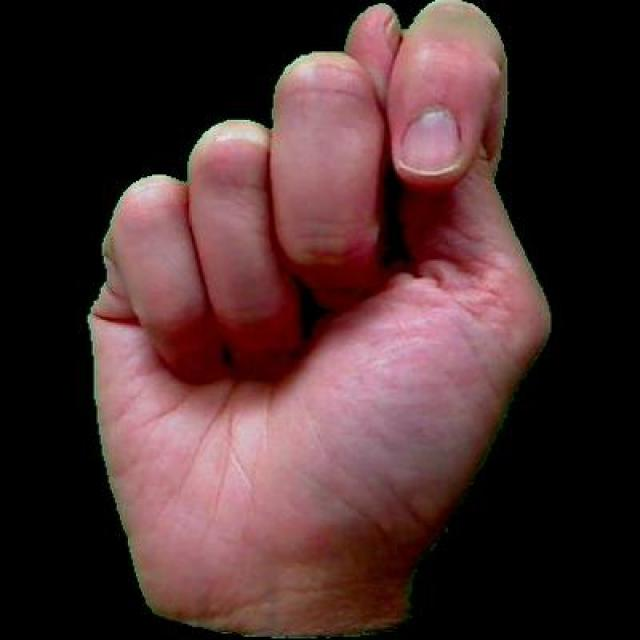t: (74, 0, 562, 637)
